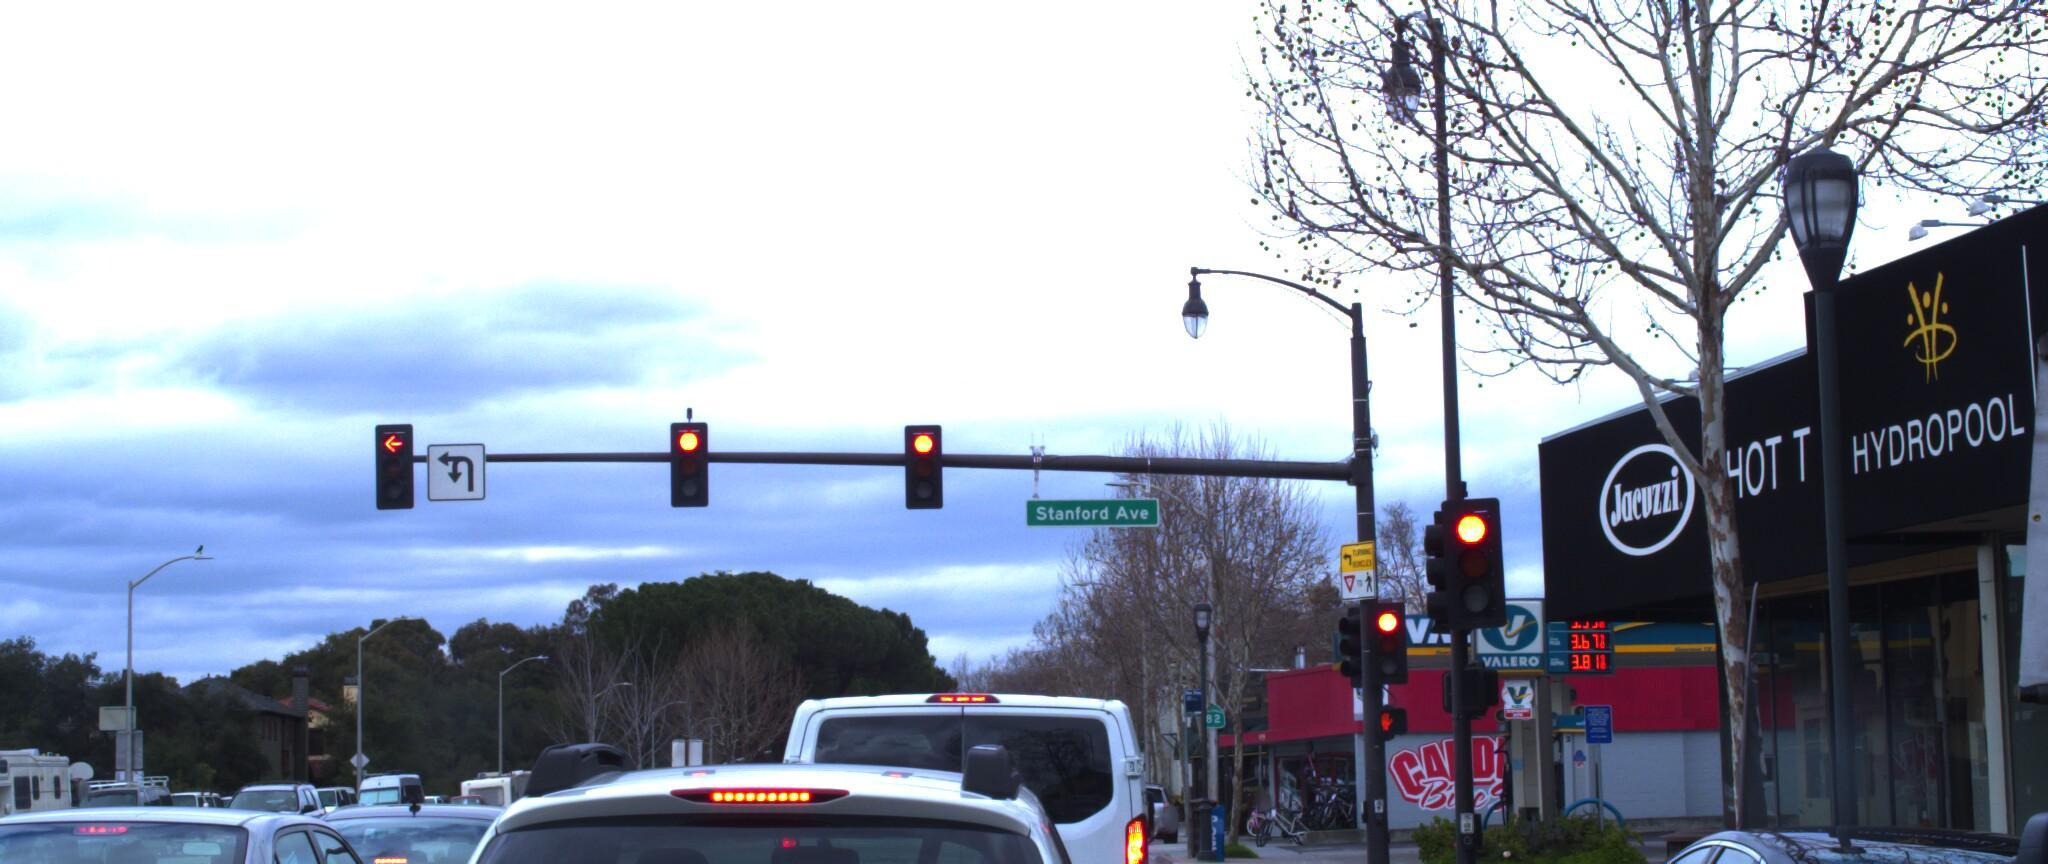car: (1802, 0, 2048, 864), (283, 697, 1236, 864), (765, 656, 1173, 864), (125, 786, 611, 864), (1482, 801, 2048, 864), (0, 795, 491, 864), (191, 767, 340, 864), (0, 769, 108, 864), (1122, 775, 1202, 843)
other_vehicle: (0, 730, 107, 864)
